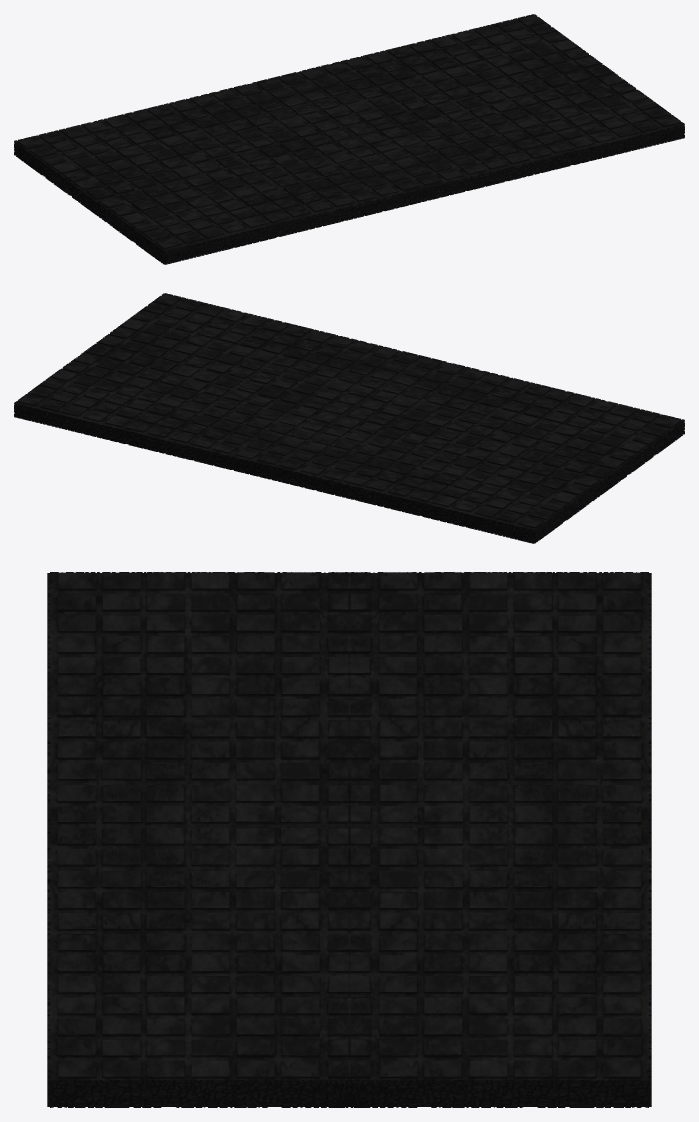
Rendered from Rock Board with Material.fbx.
3 renders of one model, top to bottom at view 1: azimuth 30°, elevation 25°; view 2: azimuth 150°, elevation 25°; view 3: azimuth 270°, elevation 25°, orthographic. The views are drawn at different scales.
Parts seen in each view (by area): view 1: Cube; view 2: Cube; view 3: Cube.
Part boxes in pixels (x1,y1,x2,y2): Cube: [14, 14, 684, 264]; Cube: [14, 293, 684, 543]; Cube: [47, 572, 651, 1107].
Size of the model in its own units: 2410 by 64.26 by 1210.
Materials: 1 (1 with a texture image).
